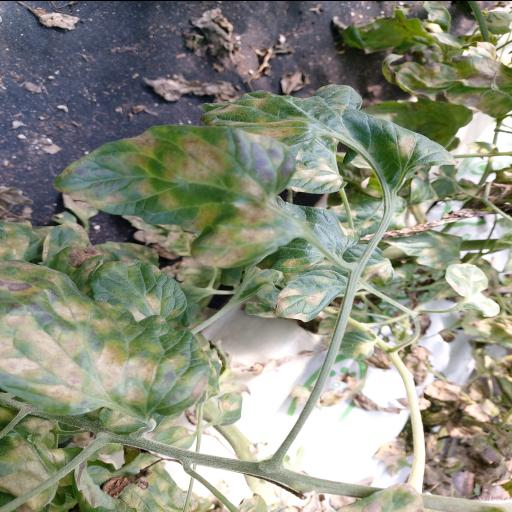Leaf Mold: (52, 123, 296, 267), (0, 258, 218, 416)
